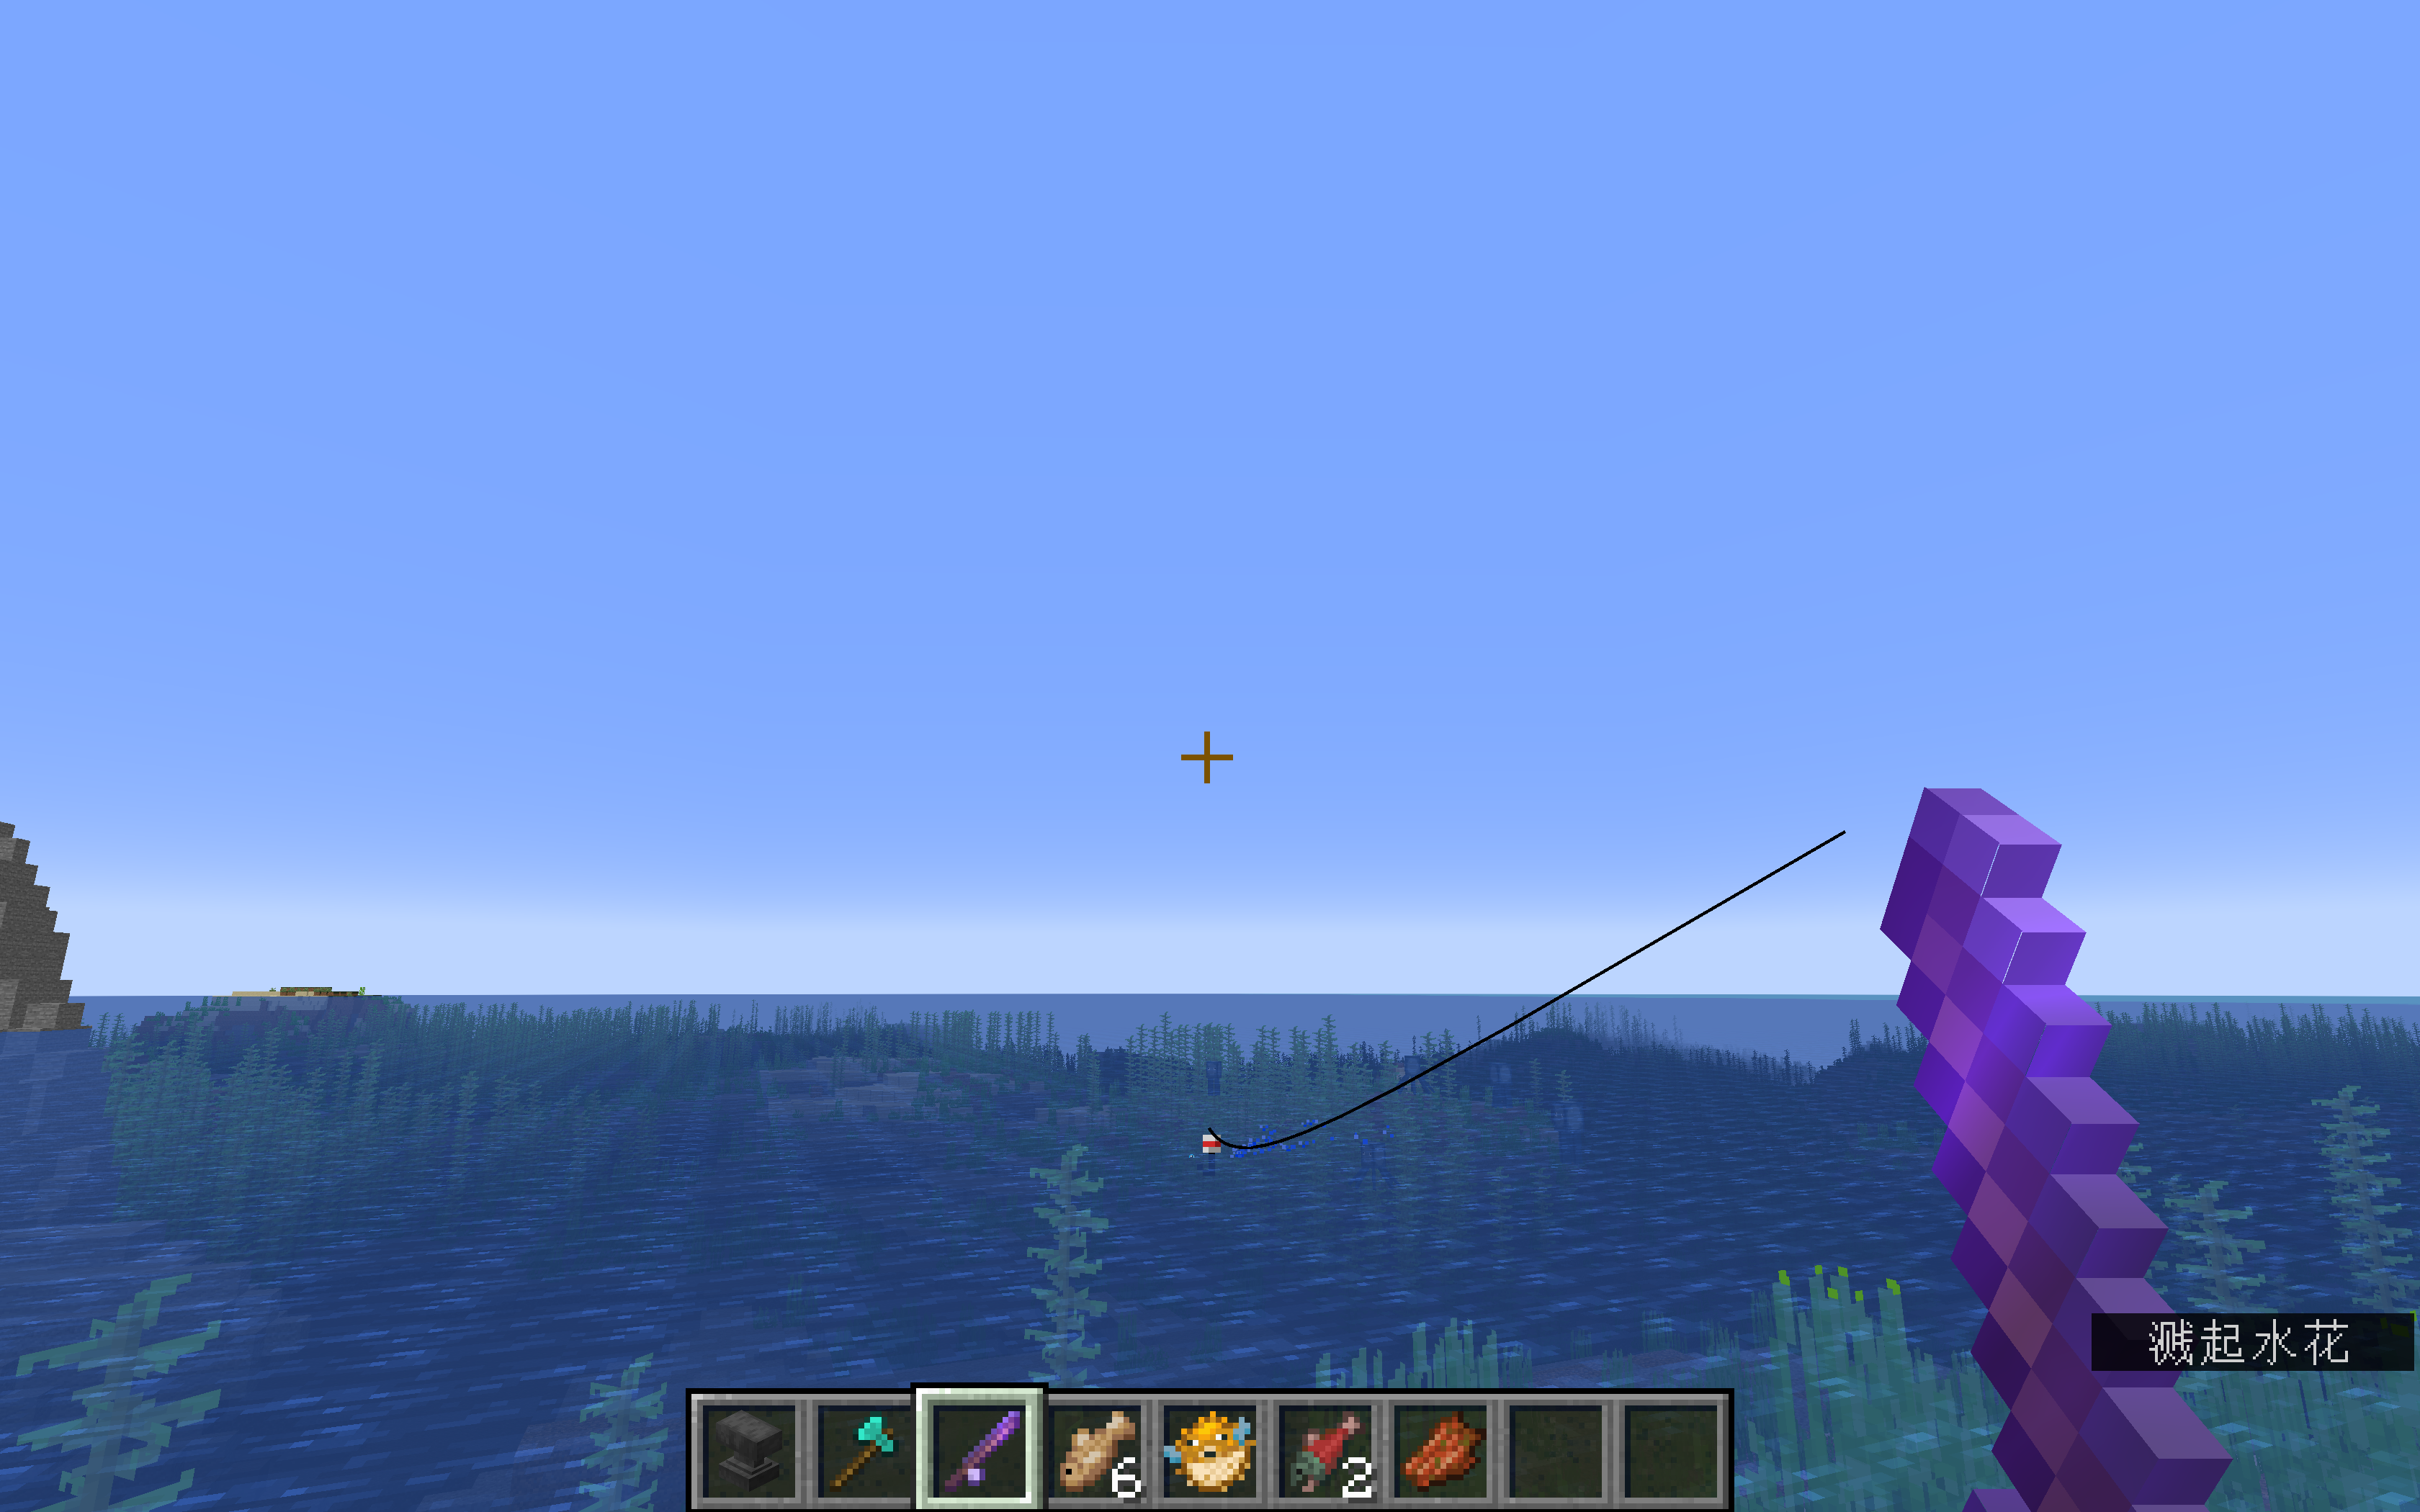inf: (2092, 1312, 2417, 1373)
